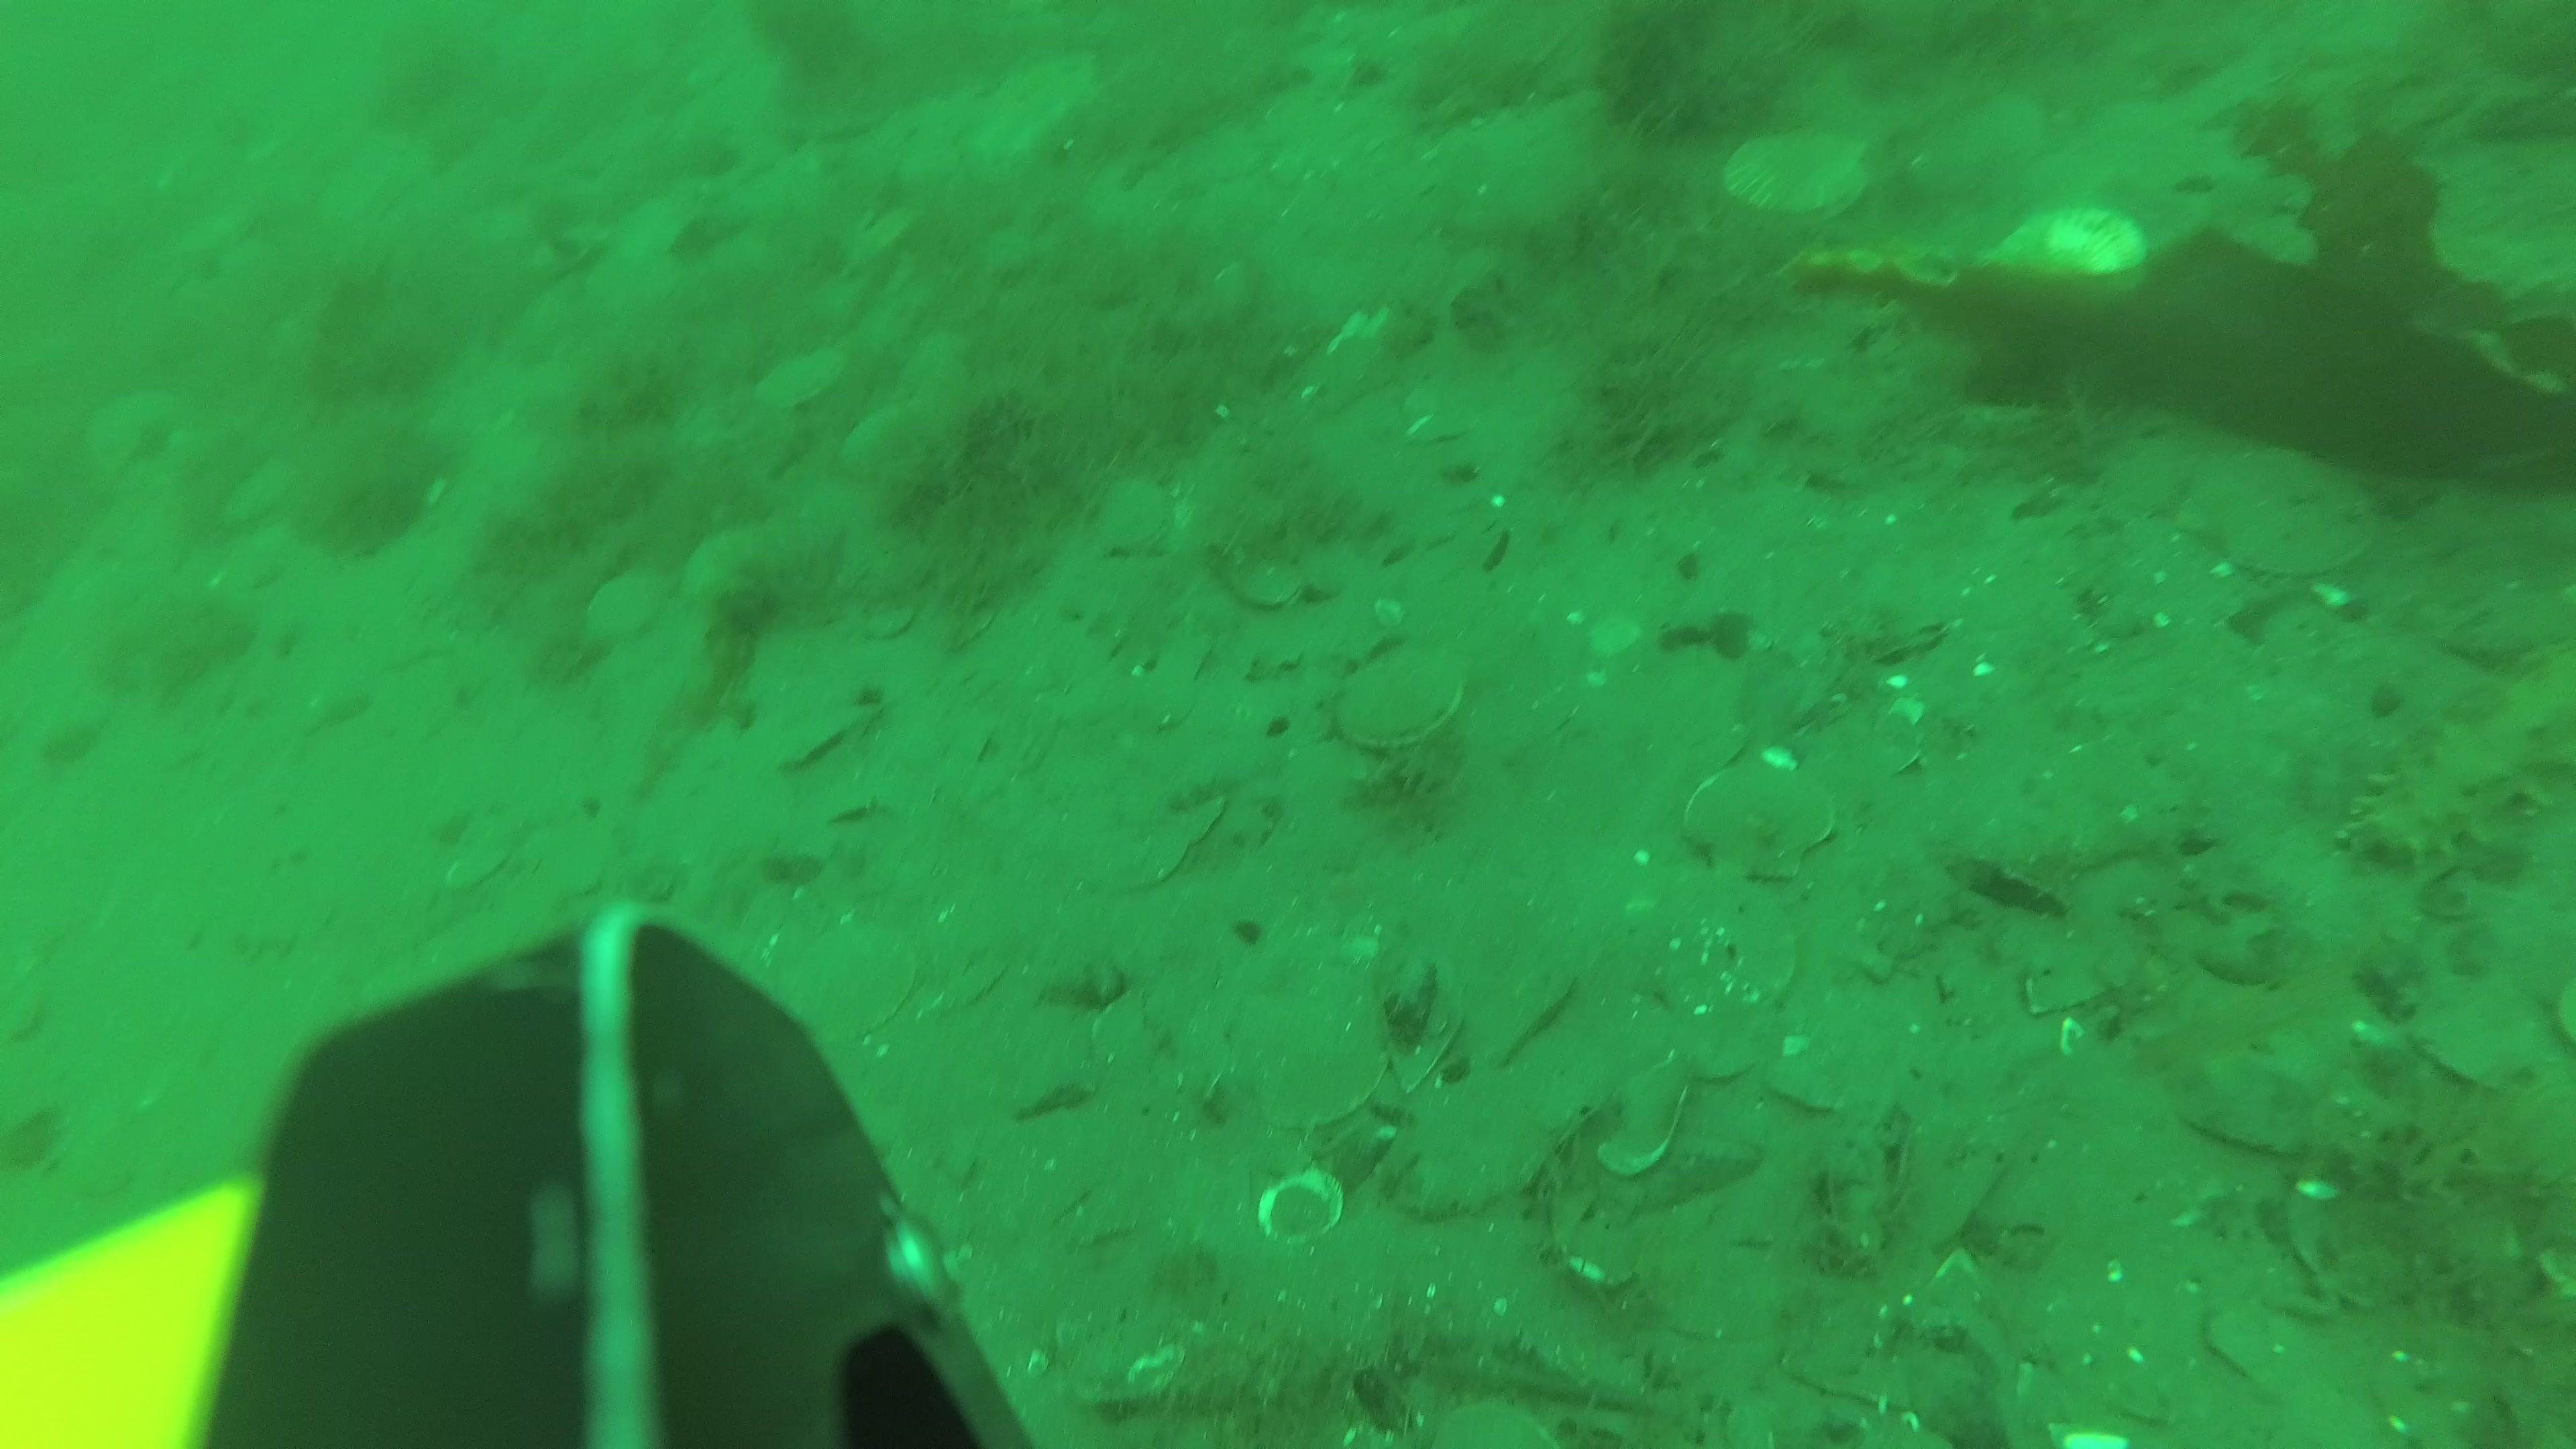scallop: (2180, 435, 2392, 587), (1226, 961, 1403, 1131), (1642, 879, 1810, 1023), (2419, 971, 2560, 1111), (1688, 763, 1851, 883), (782, 925, 918, 1062), (1982, 198, 2157, 299), (1727, 126, 1879, 225), (1343, 640, 1463, 757), (582, 570, 683, 649), (1093, 479, 1177, 564), (754, 347, 849, 412), (1226, 545, 1307, 614)
